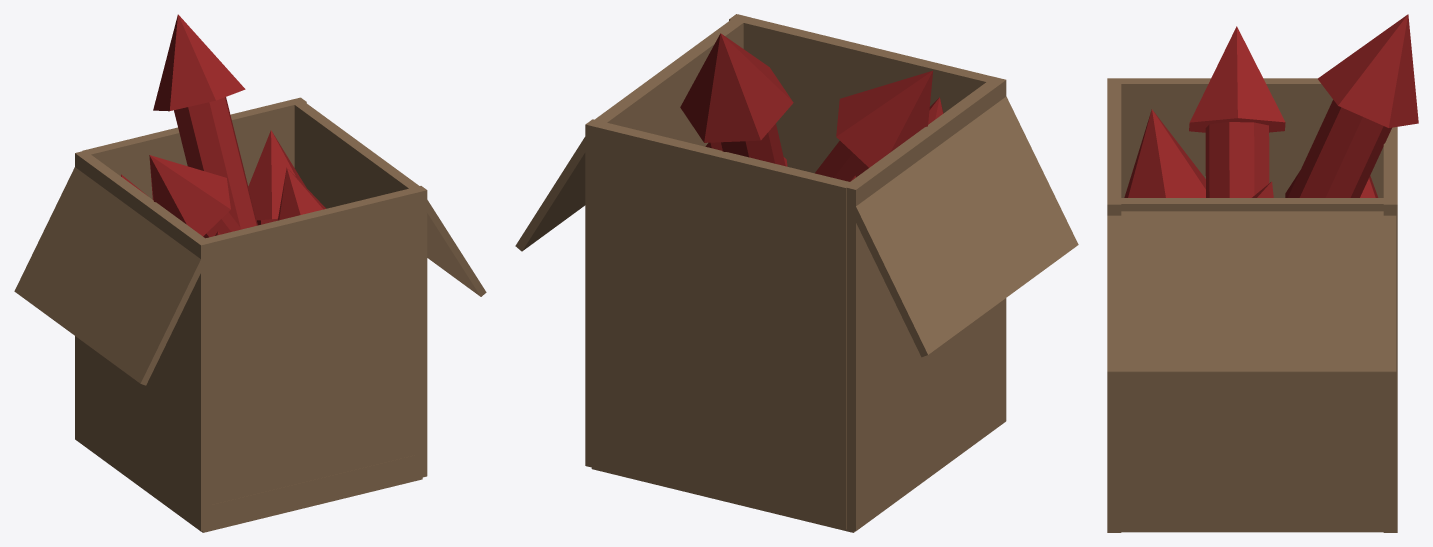
File: Fbox.dae
3 renders of one model, left to right at view 1: azimuth 30°, elevation 25°; view 2: azimuth 150°, elevation 25°; view 3: azimuth 270°, elevation 25°, orthographic. The views are drawn at different scales.
Parts seen in each view (by area): view 1: cardboardBox, Cylinder.4, Cone.4, Cone.3, Cone, Cone.2; view 2: cardboardBox, Cone.4, Cone.3, Cylinder.4, Cylinder.3; view 3: cardboardBox, Cone.4, Cylinder.4, Cone.3, Cylinder.3, Cone.1.
Boxes of the visible parts, x1,y1,x2,y2 form: cardboardBox: (14,97,486,532); Cylinder.4: (174,97,257,229); Cone.4: (153,14,245,111); Cone.3: (149,155,230,236); Cone: (248,130,306,220); Cone.2: (277,167,326,220); cardboardBox: (515,14,1078,532); Cone.4: (680,33,793,142); Cone.3: (836,70,932,167); Cylinder.4: (710,123,785,166); Cylinder.3: (815,141,868,181); cardboardBox: (1107,78,1397,532); Cone.4: (1318,14,1418,127); Cylinder.4: (1288,100,1391,197); Cone.3: (1189,26,1285,132); Cylinder.3: (1205,122,1269,197); Cone.1: (1124,109,1205,197).
Bounding box in the file's own units: 253 × 277 × 172.
